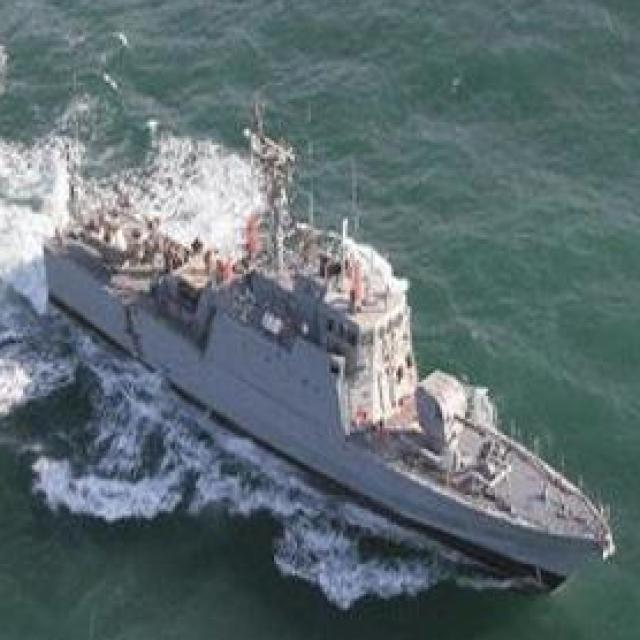navalvessels: (35, 101, 614, 592)
